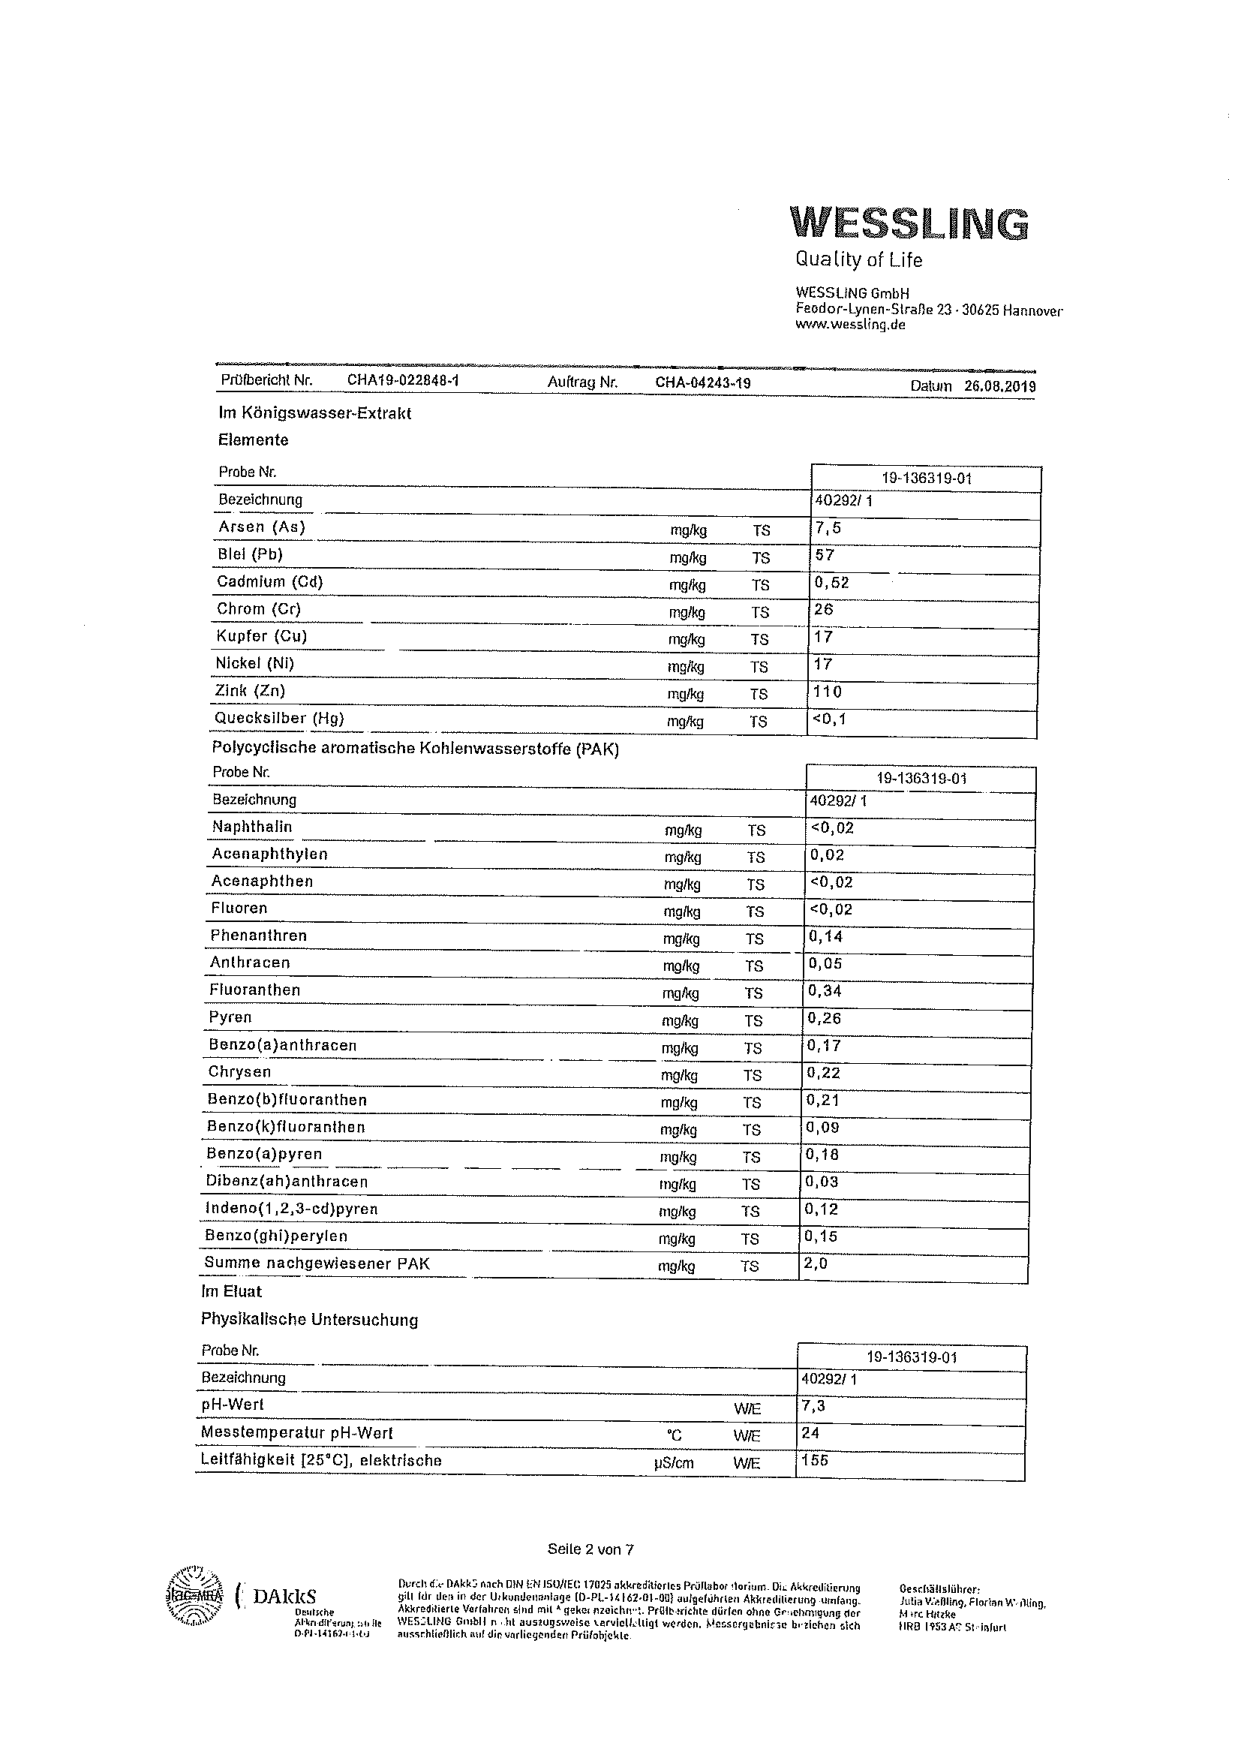table: (183, 763, 1040, 1298), (195, 455, 1056, 744), (192, 1308, 1038, 1493)
